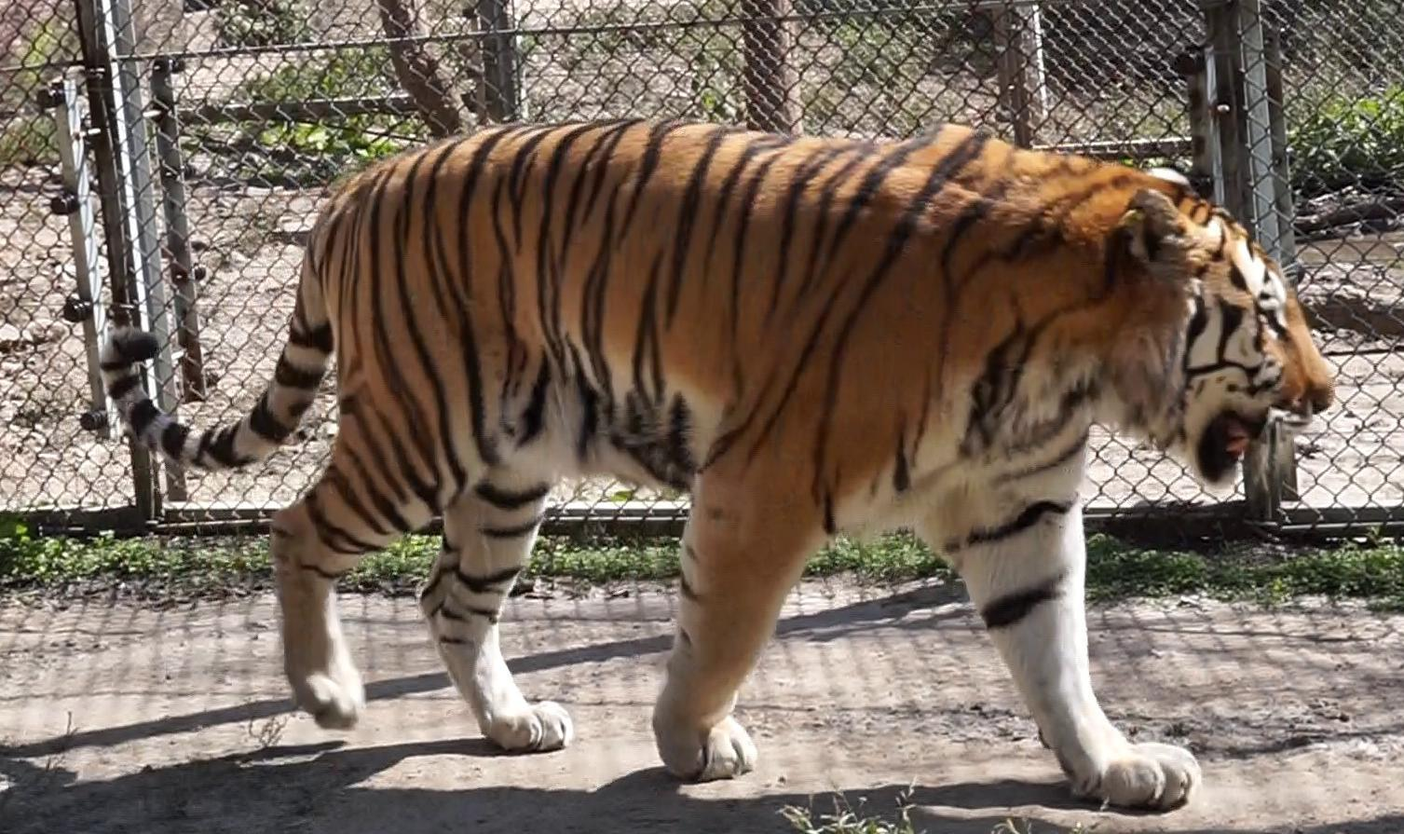tiger: (190, 120, 1341, 817)
